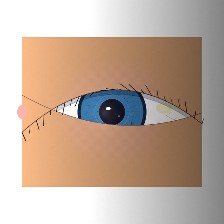pinguecula_lesion: (148, 95, 180, 121)
